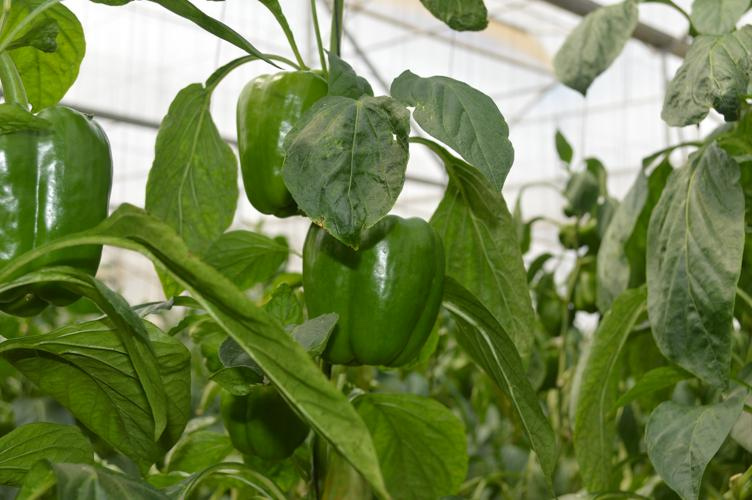BellPepper: (3, 107, 116, 303), (302, 216, 441, 368), (234, 72, 329, 220), (214, 385, 316, 460)
